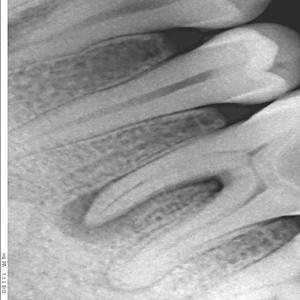tooth: (91, 92, 300, 286), (12, 22, 300, 134)
